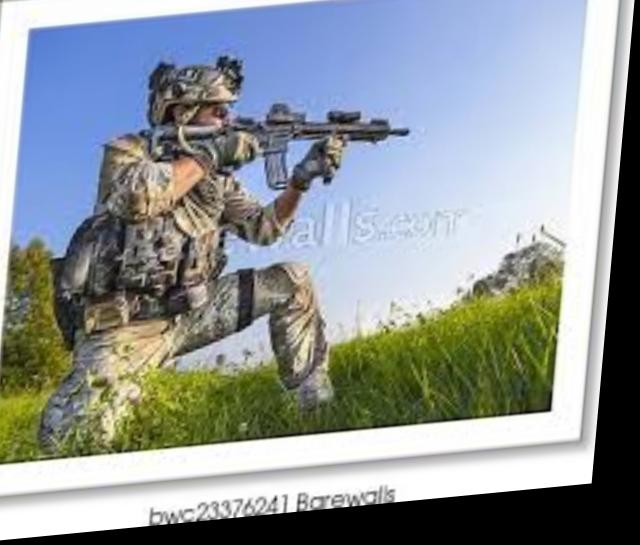other: (45, 57, 276, 449)
